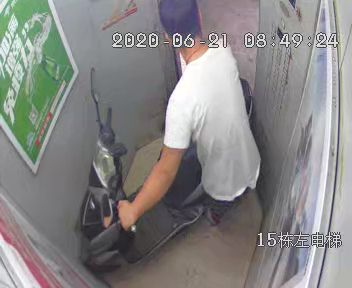Electric-bicycle: (79, 68, 201, 259)
